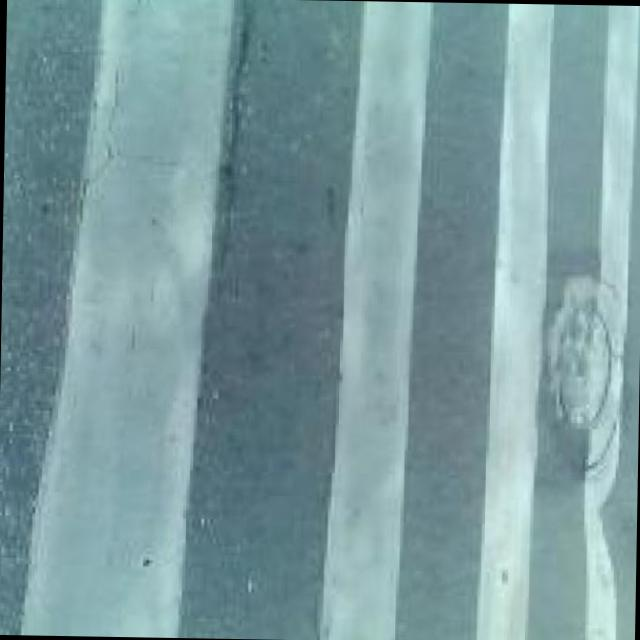zebra: (0, 13, 632, 640)
